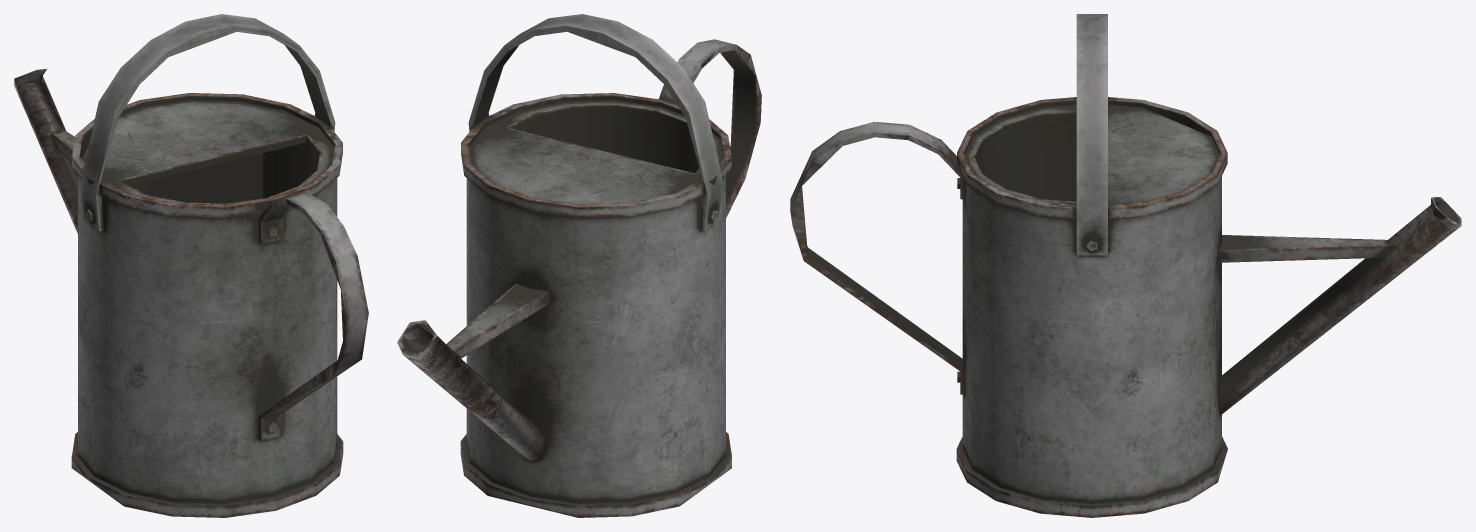
Rendered from watering_can.glb.
3 renders of one model, left to right at view 1: azimuth 30°, elevation 25°; view 2: azimuth 150°, elevation 25°; view 3: azimuth 270°, elevation 25°, orthographic.
Parts seen in each view (by area): view 1: 04_04_0; view 2: 04_04_0; view 3: 04_04_0.
Boxes of the visible parts, x1=… form: 04_04_0: x1=14, y1=14, x2=368, y2=517; 04_04_0: x1=397, y1=14, x2=761, y2=517; 04_04_0: x1=790, y1=14, x2=1461, y2=517.
Bounding box in the file's own units: 0.2981 × 0.5201 × 0.7313.
1 material, 1 textured.
